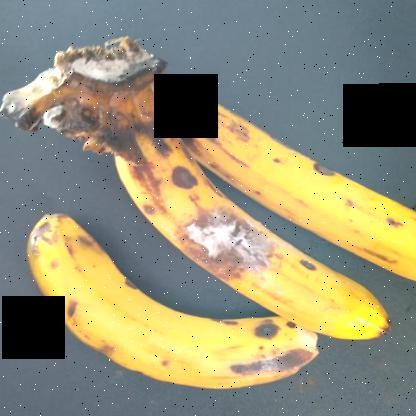overripe: (11, 204, 340, 416), (138, 121, 391, 343), (179, 84, 415, 280)
rotten: (159, 178, 304, 310)
